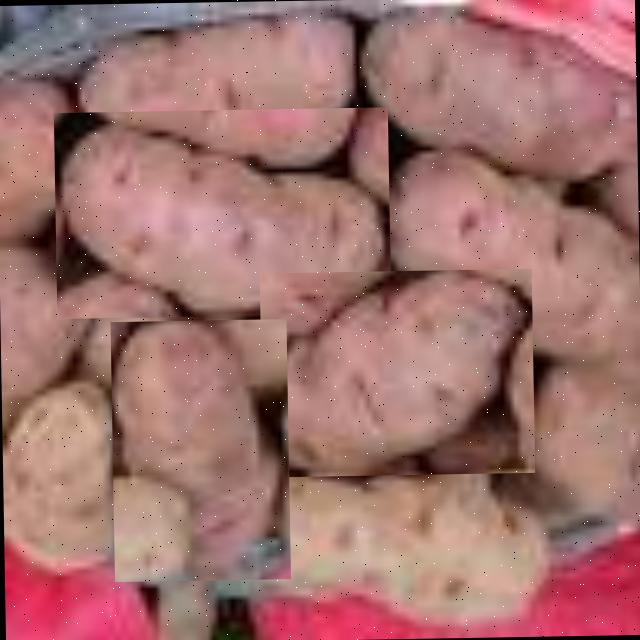Diseased-fungal potato: (53, 106, 391, 318), (259, 268, 535, 477), (110, 318, 291, 582), (75, 5, 361, 170)
